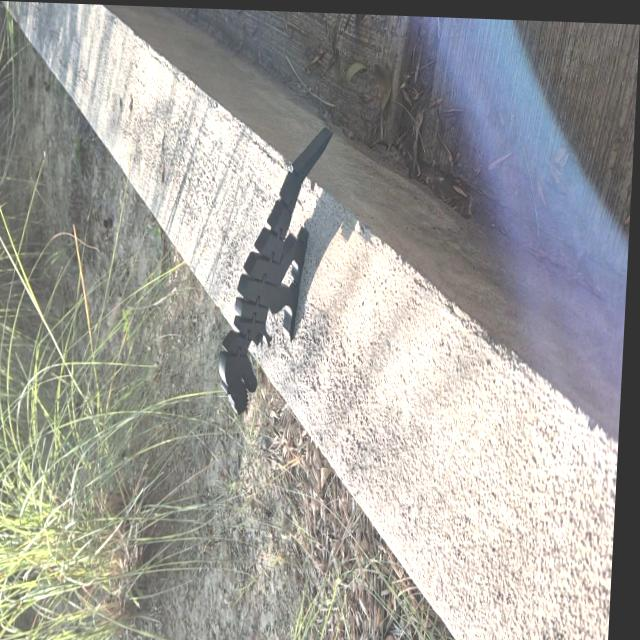dino: (215, 121, 335, 419)
